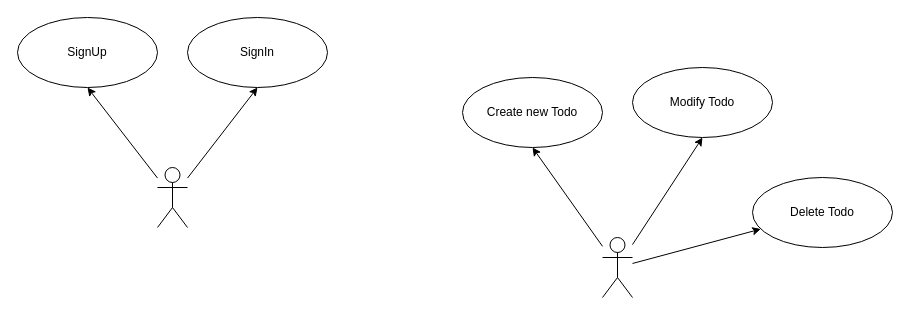
The diagram is 910 pixels wide and 336 high, and some of its shapes have lost their labels. The centre of each missing label's shape, as x and y in pixels:
"Logged User" belongs at pixel 617 267.
"Not Logged user" belongs at pixel 172 197.
